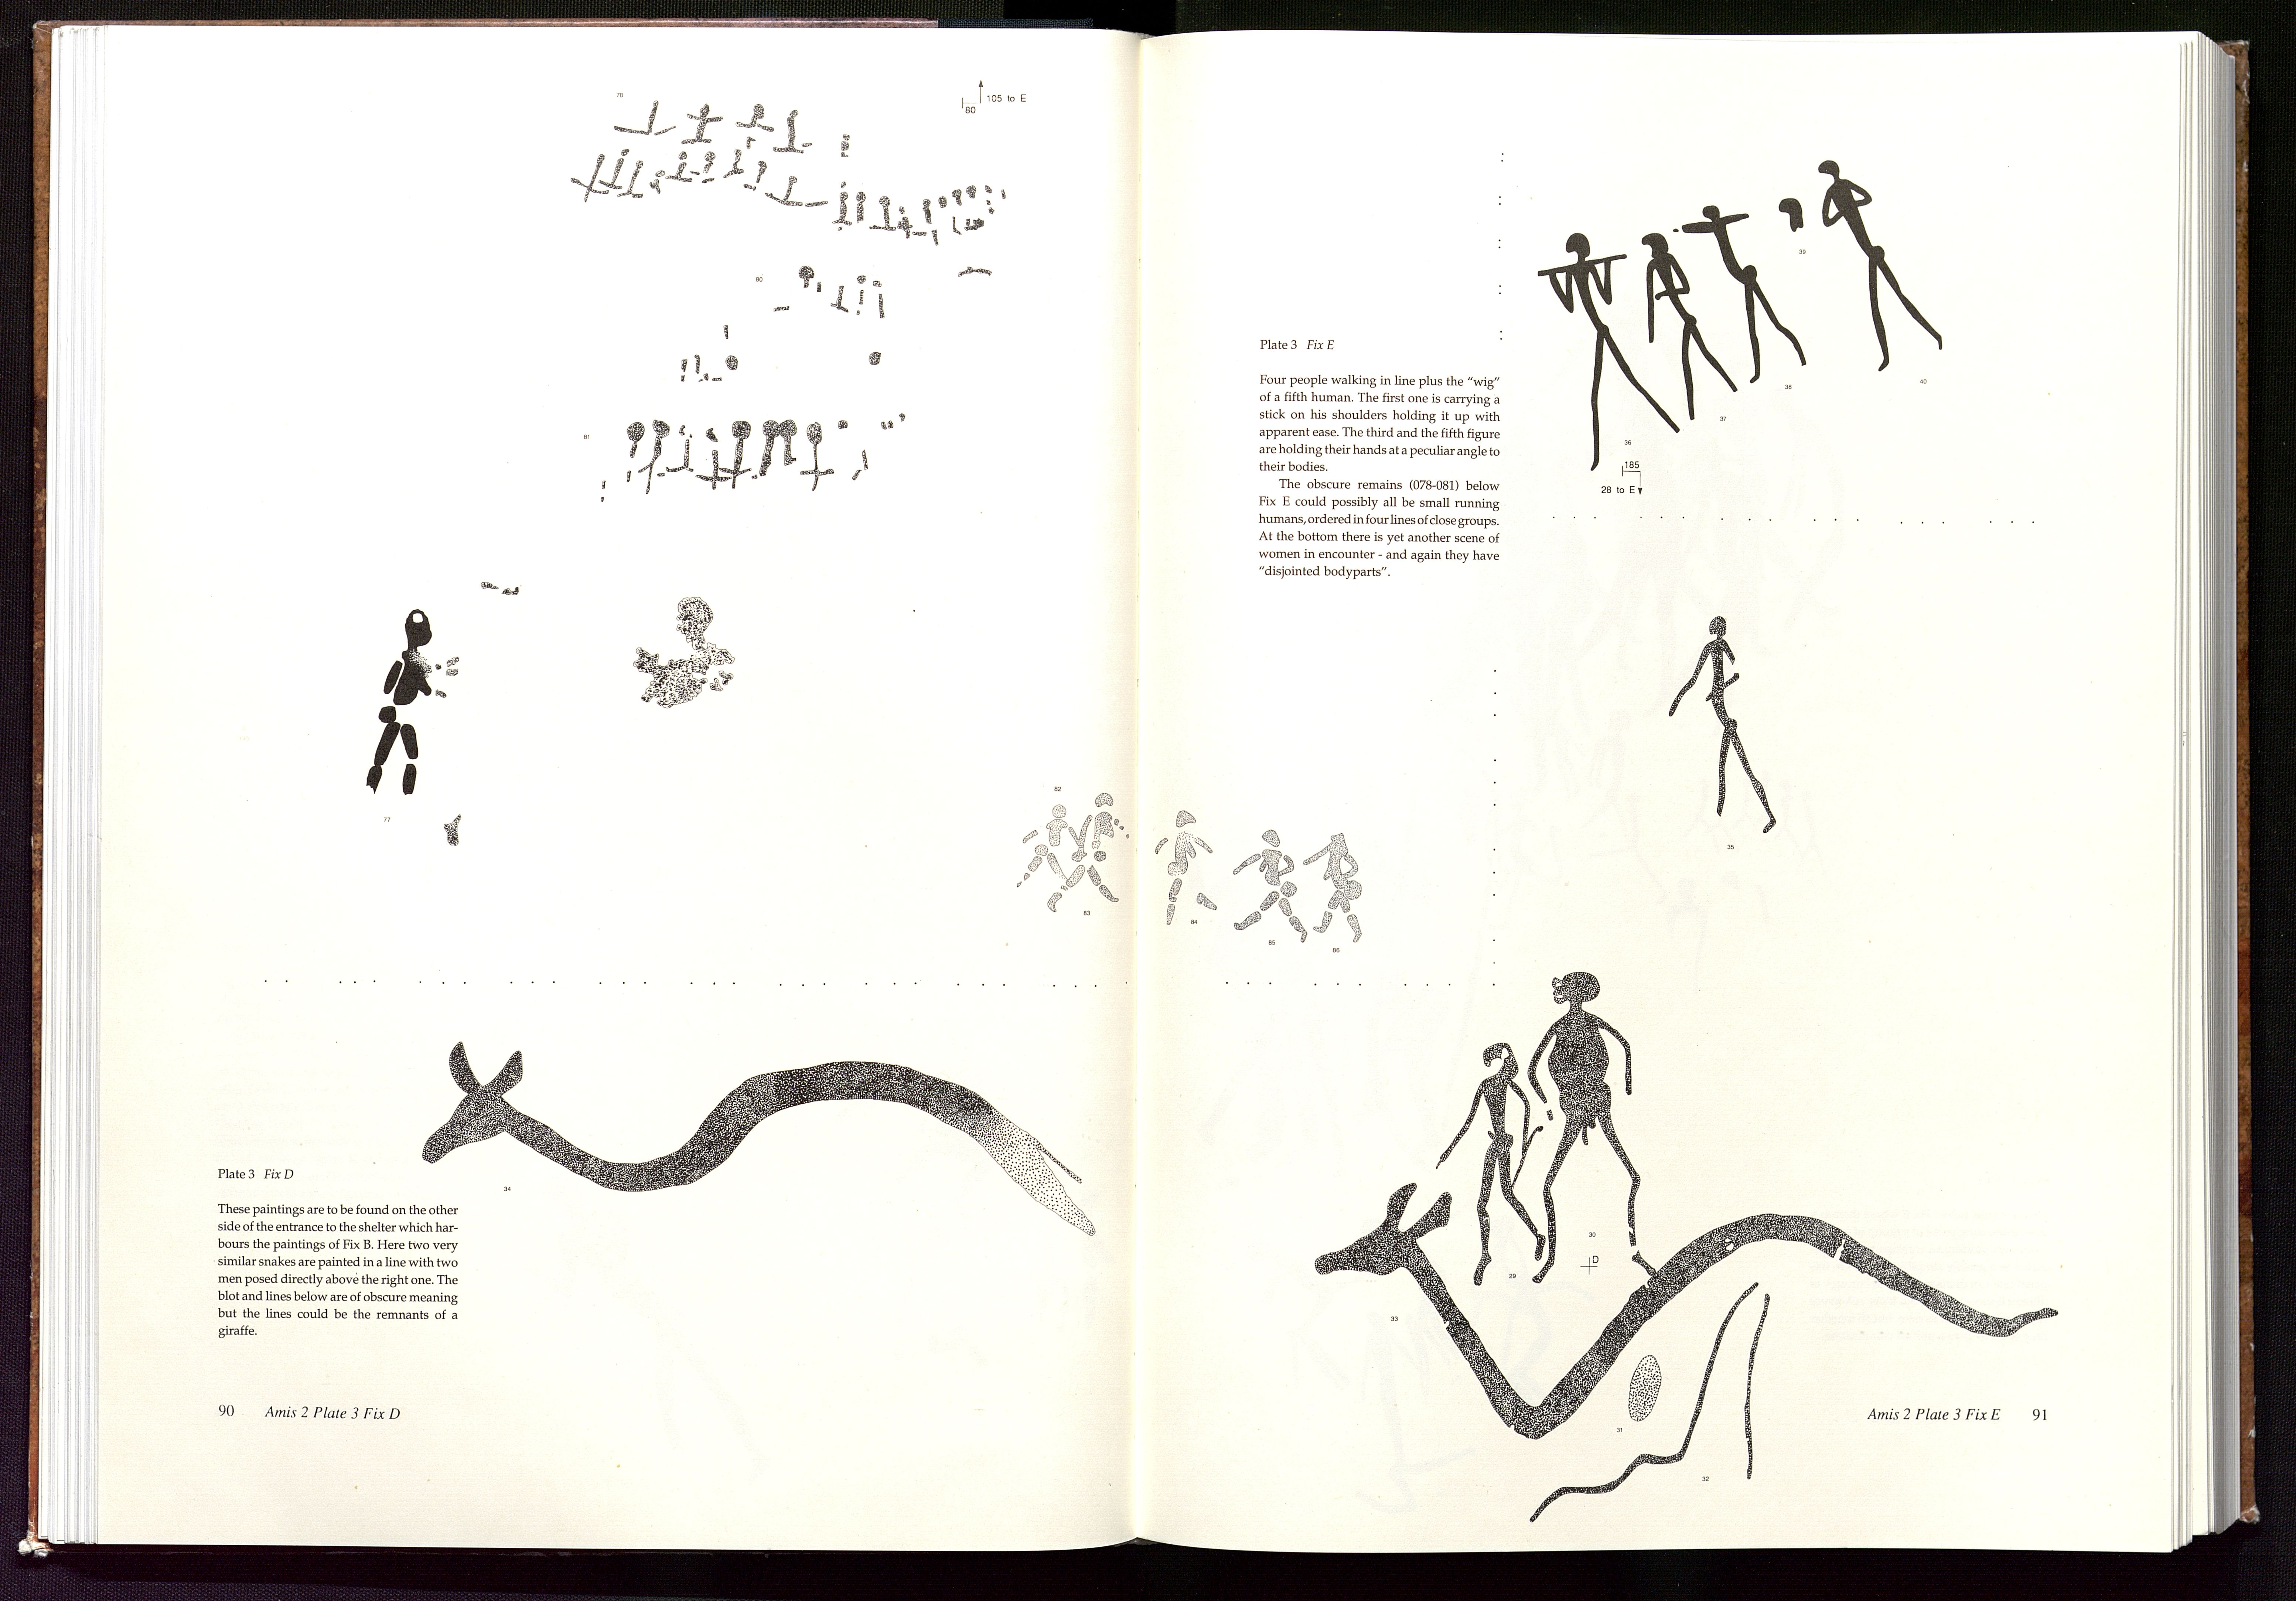animal: (1314, 1182, 2059, 1440), (422, 1041, 1096, 1236)
human: (1528, 972, 1657, 1284), (1536, 232, 1681, 471), (1818, 161, 1945, 373), (1435, 1042, 1545, 1287), (1671, 204, 1807, 385), (1667, 616, 1777, 835), (1640, 232, 1737, 422), (365, 609, 460, 796), (1047, 792, 1130, 912), (1232, 829, 1308, 942), (1155, 811, 1217, 925), (1303, 834, 1364, 942), (1017, 804, 1081, 887)
